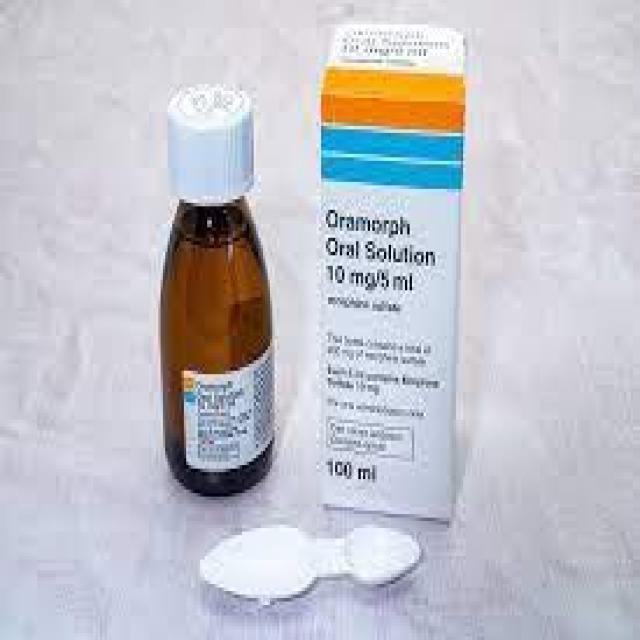B3: (142, 67, 300, 500)
